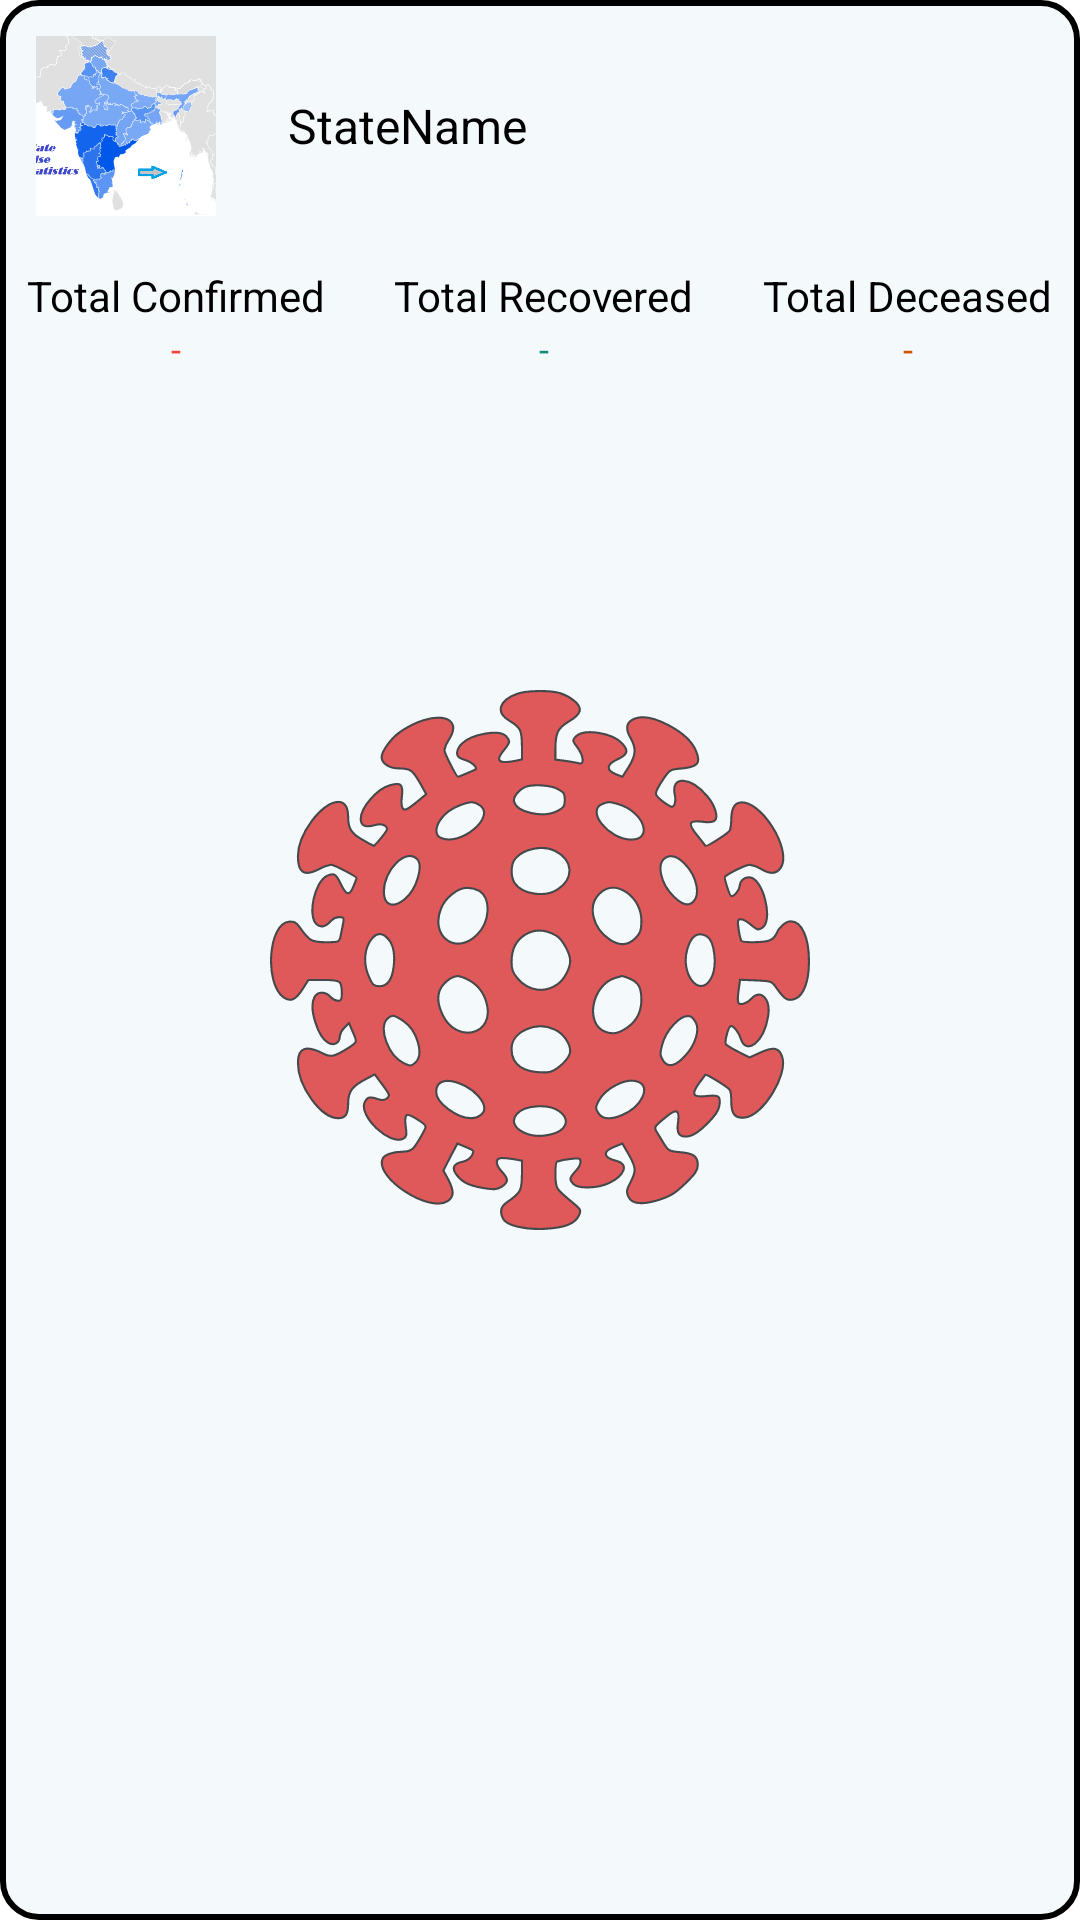

Named icons in this screenshot (1080w x 1920h) and their bounding boxes, (x1, y1, x2, y2):
statecorona: (36, 36, 216, 214)
